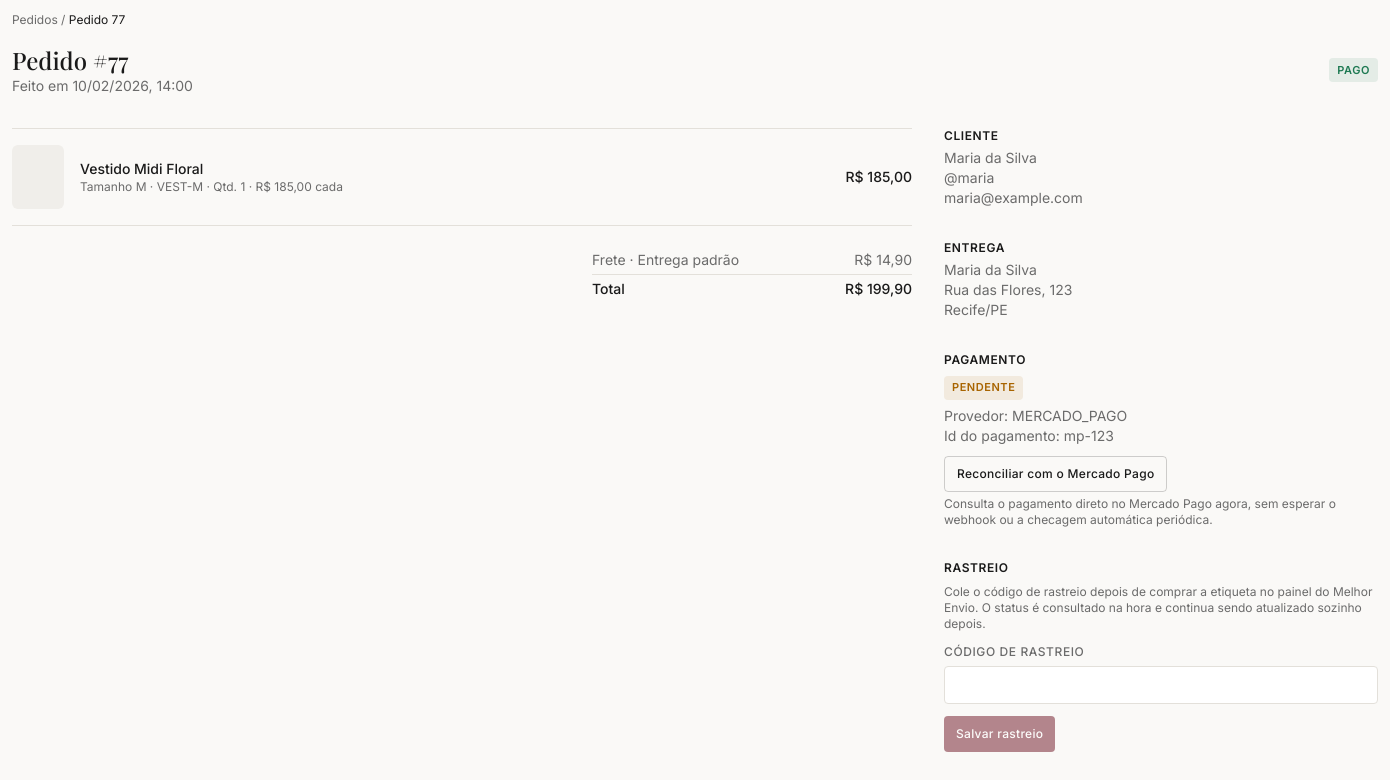
Test: AdminPedidoDetalhe › reconciliar sem pagamento no MP ainda mostra o erro do backend
This screenshot has width=1390, height=780.
Expected: the heading "Pedido #77" is shown, [12,44,128,76]
Step 1. Click the button "Reconciliar com o Mercado Pago" → x=1056, y=474, box [944,456,1168,492]
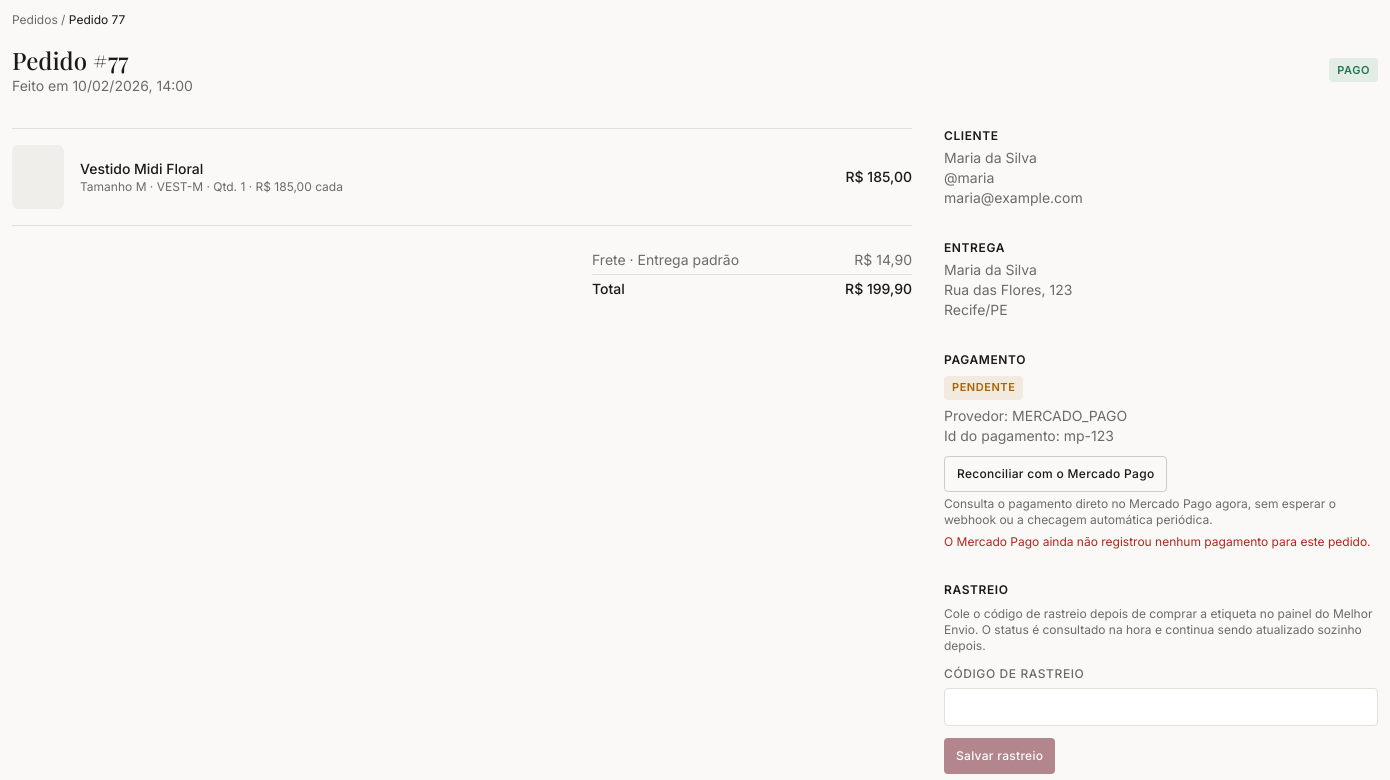
Expected: the text "O Mercado Pago ainda não registrou nenhum pagamento para este pedido." is shown, [944,534,1378,550]
